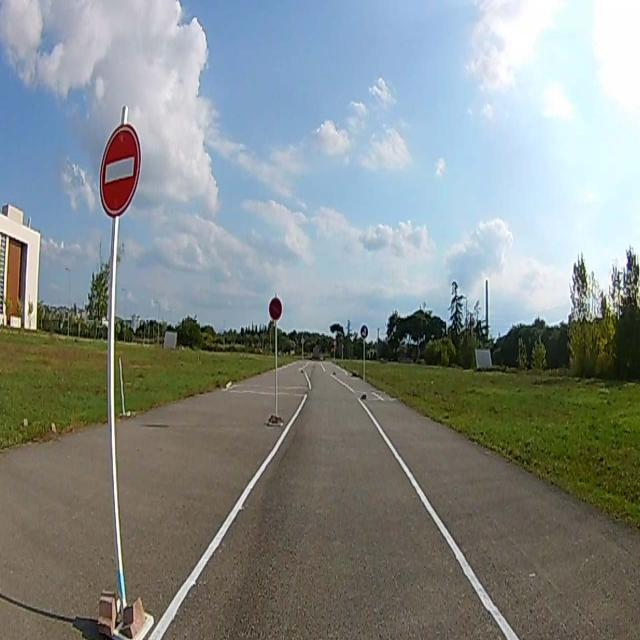girisyok: (99, 126, 141, 214)
